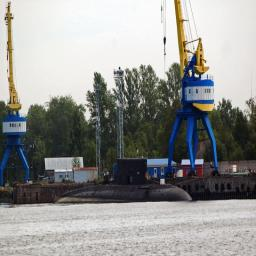submarine: (58, 157, 197, 201)
